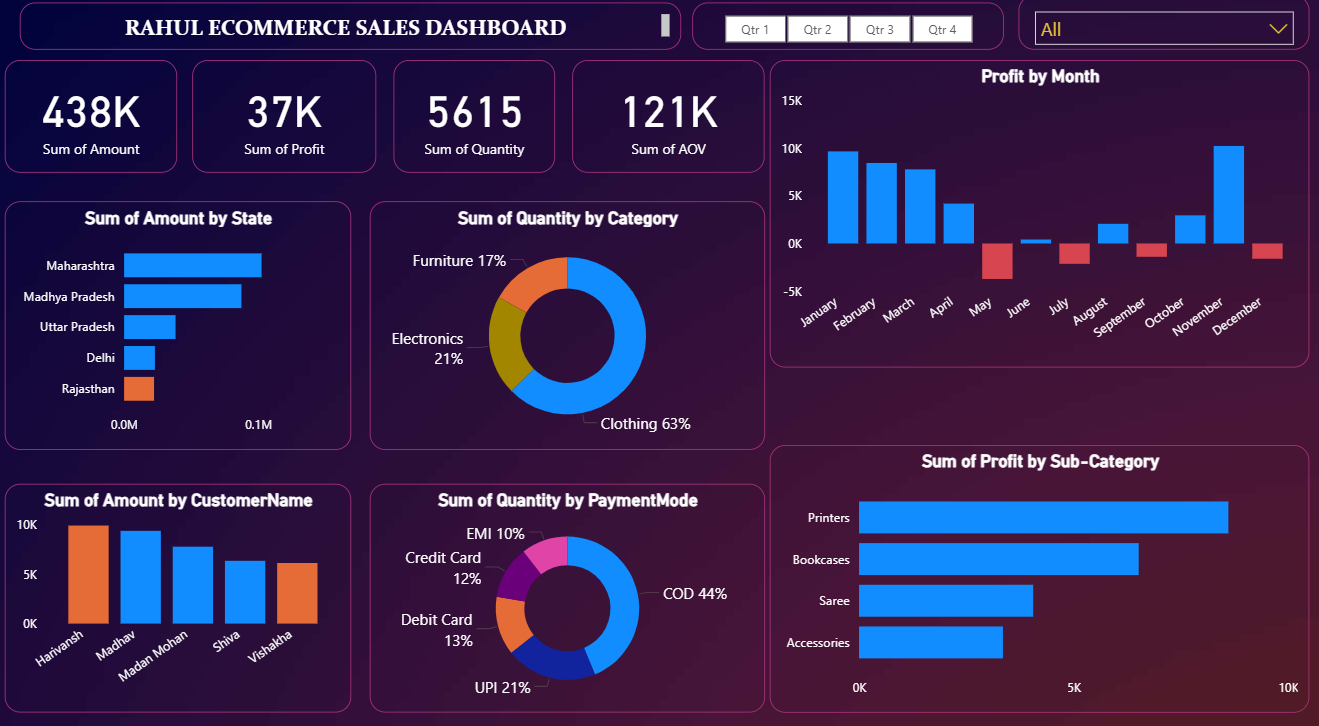

Layout of this report page (visuals, bound fields, positions):
{"tool":"powerbi","page":{"name":"Page 1","canvas":[1280,720],"ordinal":0},"visuals":[{"type":"columnChart","title":" Profit by Month","fields":{"Category":["Orders.Order Date.Variation.Date Hierarchy.Month"],"Y":["Details.Profit"]},"box":[746.8,62.7,521.2,296.8],"z":0},{"type":"barChart","fields":{"Category":["Details.Sub-Category"],"Y":["Details.Profit"]},"box":[746.8,434.3,521.2,258.2],"z":1000},{"type":"donutChart","fields":{"Category":["Details.Category"],"Y":["Details.Quantity"]},"box":[360.7,199.1,381.2,240.1],"z":2000},{"type":"donutChart","fields":{"Y":["Details.Quantity"],"Category":["Details.PaymentMode"]},"box":[360.7,471.7,381.2,220.8],"z":3000},{"type":"card","fields":{"Values":["Details.Amount"]},"box":[8.4,62.7,166.5,108.6],"z":4000},{"type":"card","fields":{"Values":["Details.Quantity"]},"box":[383.6,62.7,155.6,108.6],"z":5000},{"type":"card","fields":{"Values":["Details.Profit"]},"box":[189.4,62.7,177.3,108.6],"z":6000},{"type":"card","fields":{"Values":["Details.AOV"]},"box":[556.2,62.7,185.8,108.6],"z":7000},{"type":"barChart","fields":{"Category":["Orders.State"],"Y":["Details.Amount"]},"box":[8.4,199.1,334.2,240.1],"z":8000},{"type":"columnChart","fields":{"Category":["Orders.CustomerName"],"Y":["Details.Amount"]},"box":[8.4,471.7,334.2,220.8],"z":9000},{"type":"textbox","box":[22.9,7.2,638.2,45.8],"z":10000},{"type":"slicer","fields":{"Values":["Orders.Order Date.Variation.Date Hierarchy.Quarter"]},"box":[672,7.2,300.4,45.8],"z":11000},{"type":"slicer","fields":{"Values":["Orders.State"]},"box":[986.9,0,281.1,53.1],"z":12000}]}

Visuals, with their boxes in screenshot pixels (x1, y1, x2, y2), scaled from the page's 1280x720 canvas onto the 1319x726 screenshot:
" Profit by Month" columnChart: left=770, top=63, right=1307, bottom=362
barChart - Details.Sub-Category x Details.Profit: left=770, top=438, right=1307, bottom=698
donutChart - Details.Category x Details.Quantity: left=372, top=201, right=765, bottom=443
donutChart - Details.Quantity x Details.PaymentMode: left=372, top=476, right=765, bottom=698
card - Details.Amount: left=9, top=63, right=180, bottom=173
card - Details.Quantity: left=395, top=63, right=556, bottom=173
card - Details.Profit: left=195, top=63, right=378, bottom=173
card - Details.AOV: left=573, top=63, right=765, bottom=173
barChart - Orders.State x Details.Amount: left=9, top=201, right=353, bottom=443
columnChart - Orders.CustomerName x Details.Amount: left=9, top=476, right=353, bottom=698
textbox: left=24, top=7, right=681, bottom=53
slicer - Orders.Order Date.Variation.Date Hierarchy.Quarter: left=692, top=7, right=1002, bottom=53
slicer - Orders.State: left=1017, top=0, right=1307, bottom=54
